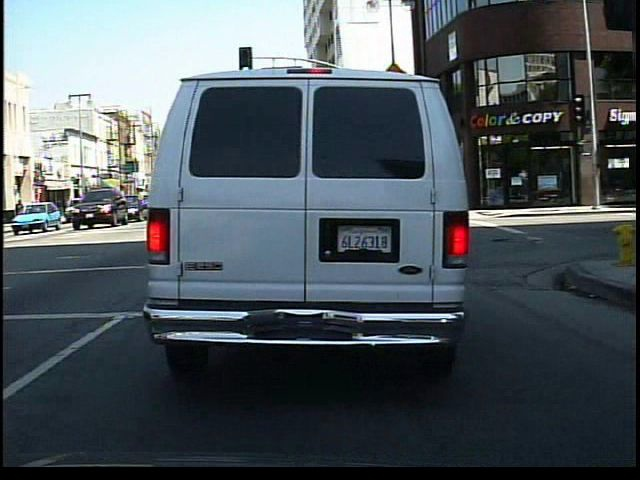person: (10, 195, 27, 227)
